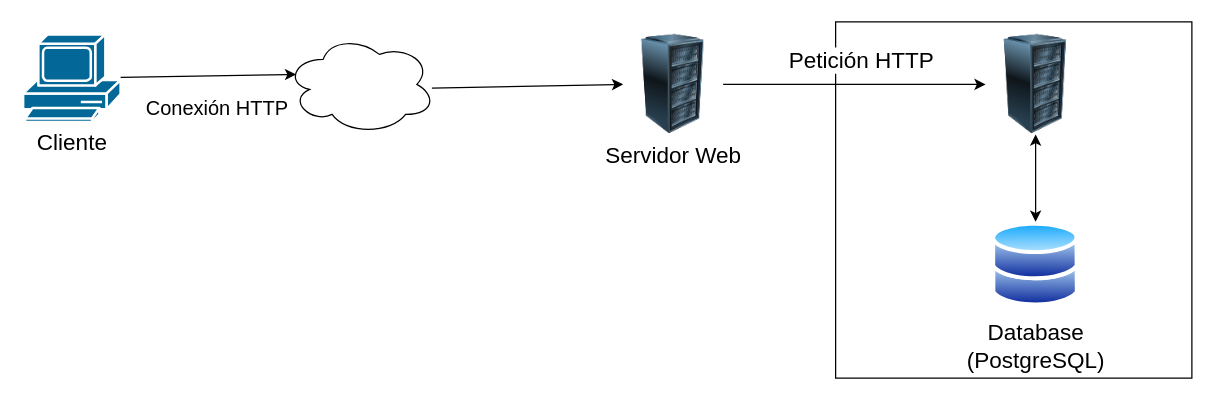
This 1214x400 diagram has some shape labels left out. Each missing label, with the centre of its shape:
"Internet" goes at [360,83].
"Servidor Database" goes at [1035,84].
